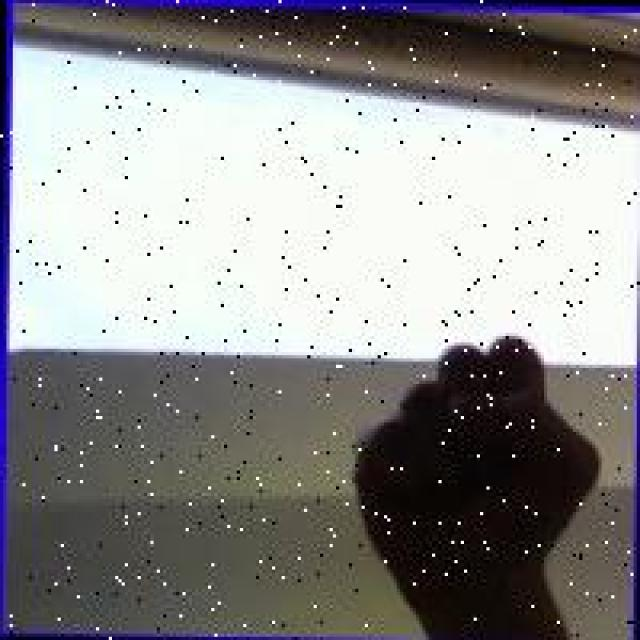S: (341, 324, 606, 610)
